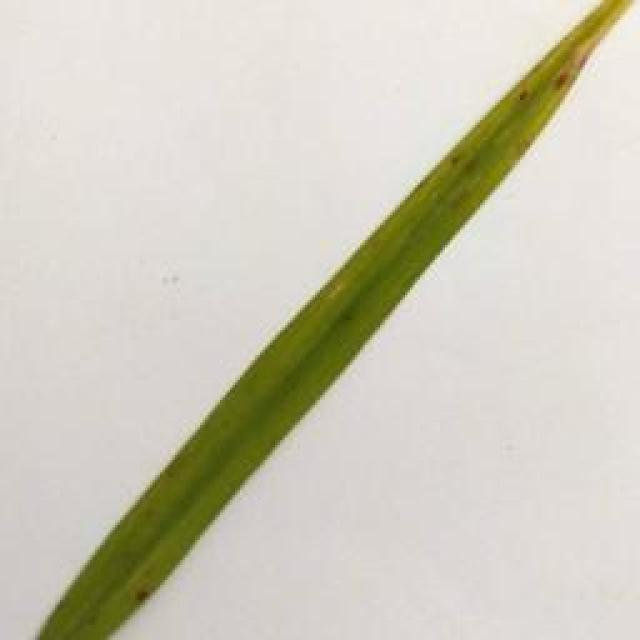Brown_Spot: (129, 572, 165, 602), (445, 157, 486, 177), (546, 65, 574, 93), (509, 89, 542, 112)
